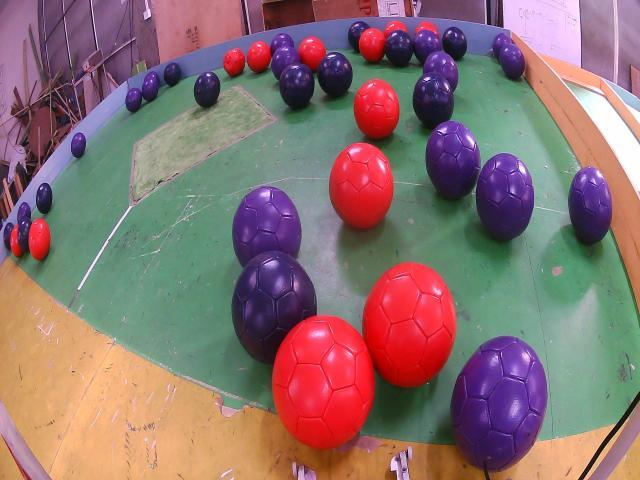jambhalya: (451, 337, 548, 472), (232, 187, 301, 267), (476, 153, 534, 240), (425, 120, 481, 198), (569, 167, 612, 245), (422, 52, 459, 92), (412, 30, 442, 64), (271, 45, 300, 80), (499, 43, 525, 80), (270, 33, 294, 54), (492, 33, 512, 58), (125, 87, 142, 112), (71, 132, 86, 158), (143, 77, 158, 100), (18, 202, 31, 222), (145, 72, 159, 82)
kaalyya: (231, 250, 318, 365), (412, 73, 454, 128), (279, 63, 315, 108), (318, 52, 352, 97), (385, 30, 412, 67), (194, 72, 220, 107), (442, 27, 468, 60), (348, 22, 369, 52), (18, 217, 32, 253), (36, 183, 52, 213), (164, 62, 181, 87), (4, 222, 14, 250)
